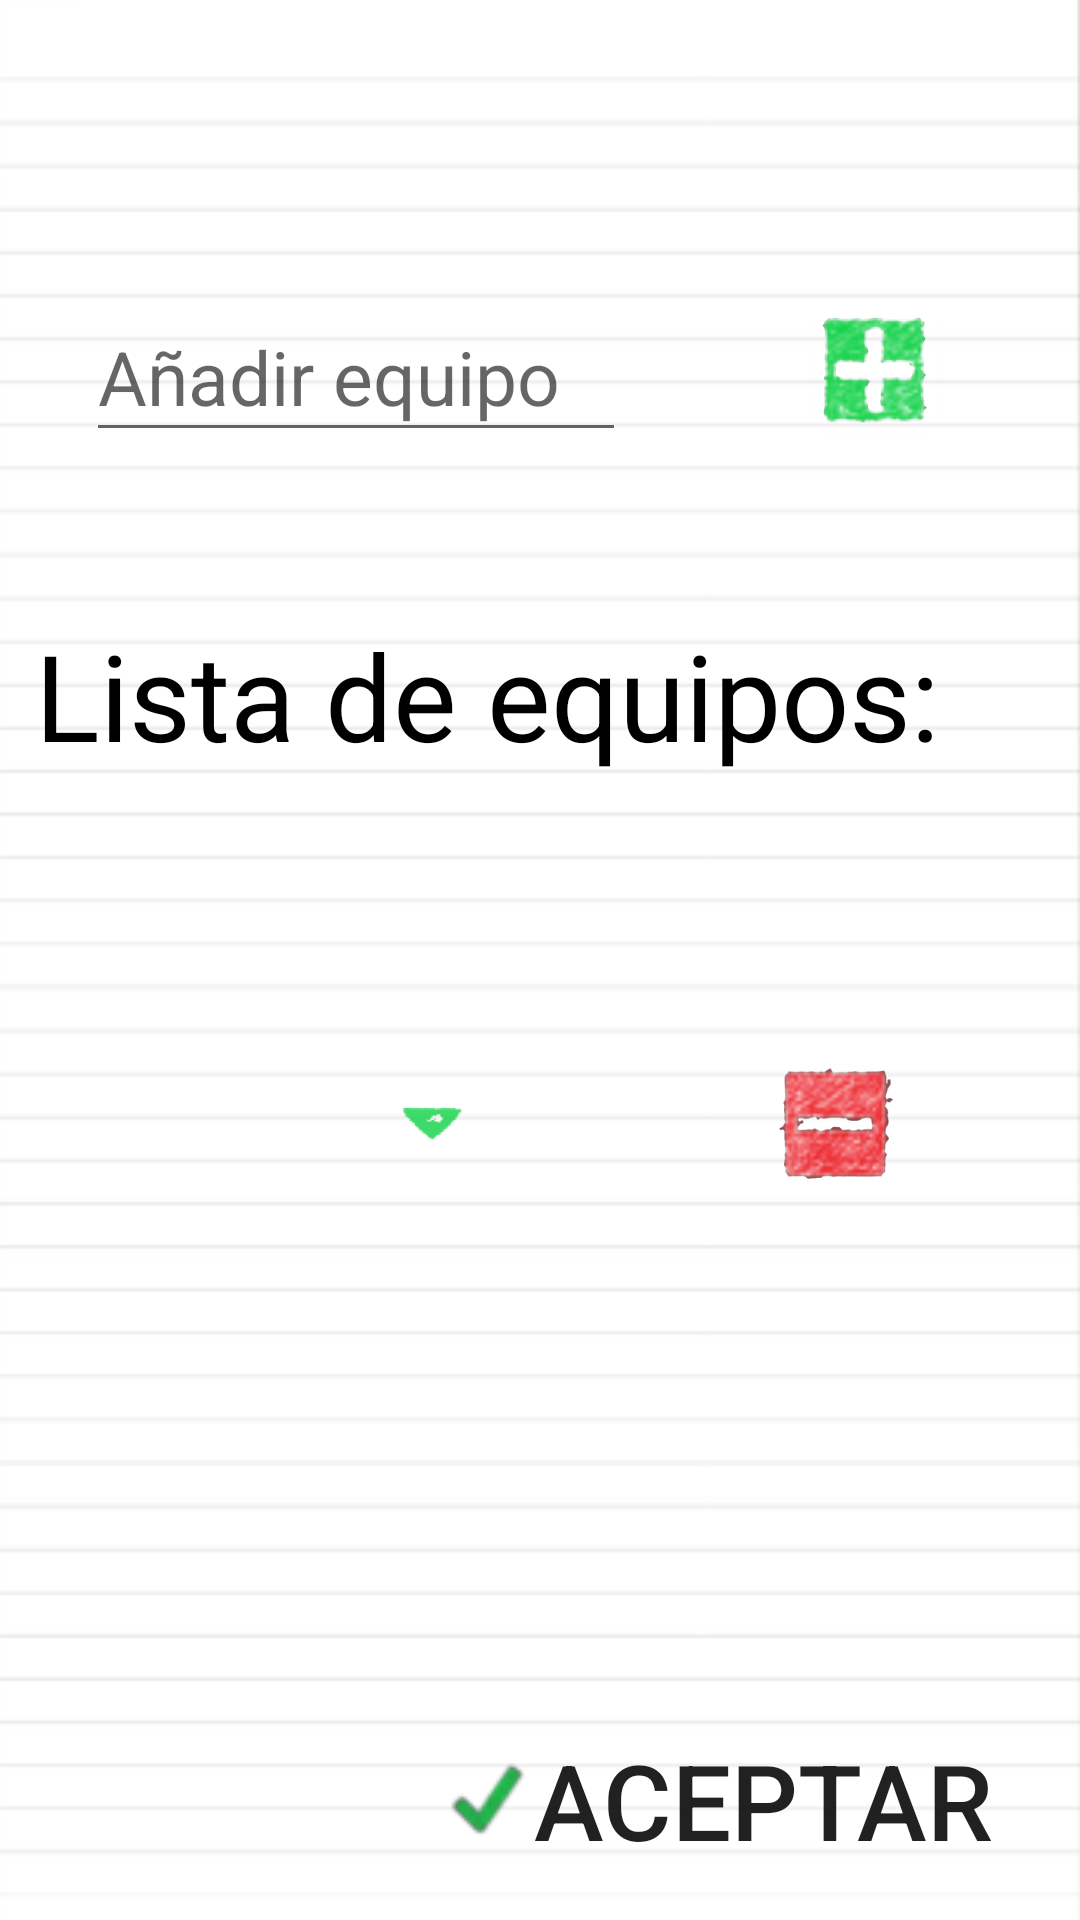

Named icons in this screenshot (1080x1920) and their bounding boxes, (left=x1, top=y1, right=x2, bottom=y2):
add: (left=822, top=318, right=927, bottom=423)
reduce: (left=779, top=1068, right=893, bottom=1179)
